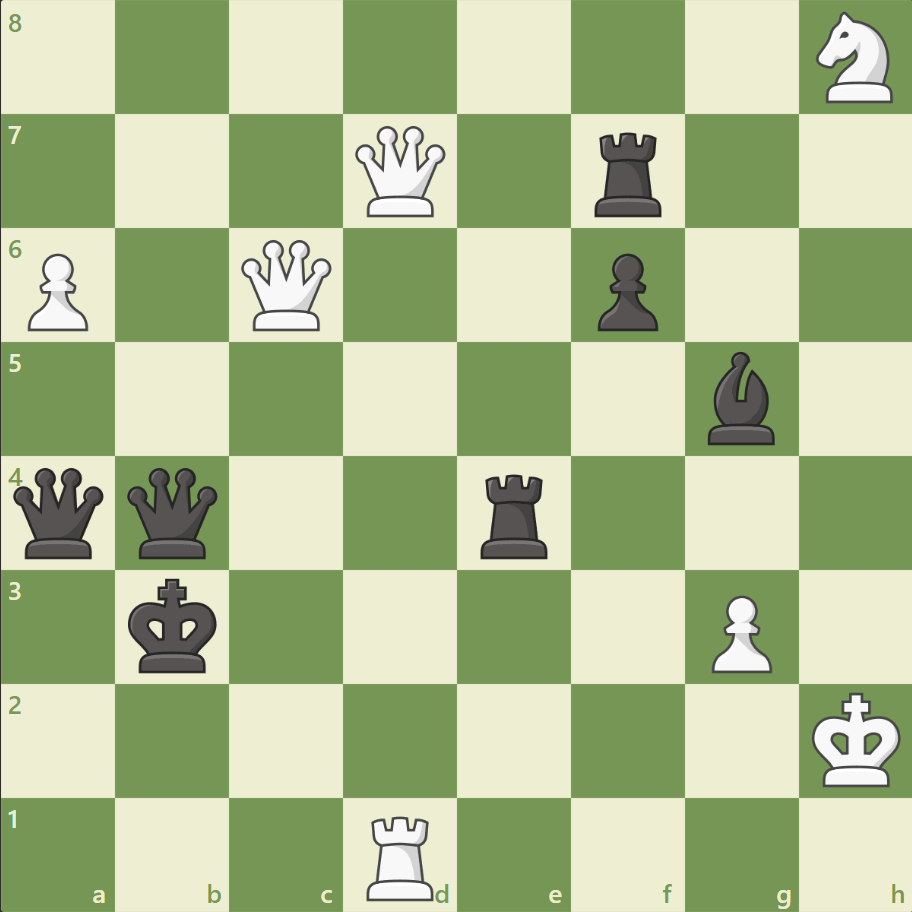K: (806, 685, 906, 793)
N: (806, 7, 903, 110)
P: (20, 246, 95, 337), (701, 586, 776, 677)
Q: (351, 122, 450, 222), (237, 236, 336, 335)
R: (360, 806, 442, 904)
b: (698, 347, 782, 449)
k: (124, 571, 224, 679)
p: (588, 246, 662, 337)
q: (10, 463, 109, 562), (124, 463, 223, 562)
r: (587, 125, 670, 222), (473, 466, 556, 563)
